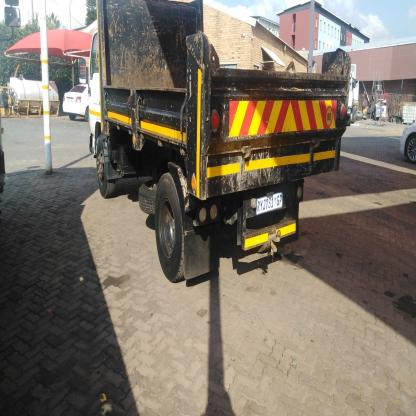dump_truck: (79, 1, 350, 282)
